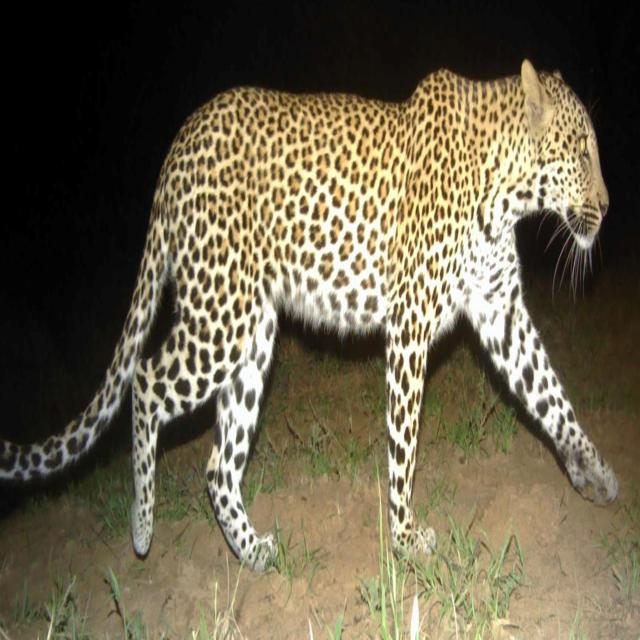Leopard: (14, 64, 621, 622)
